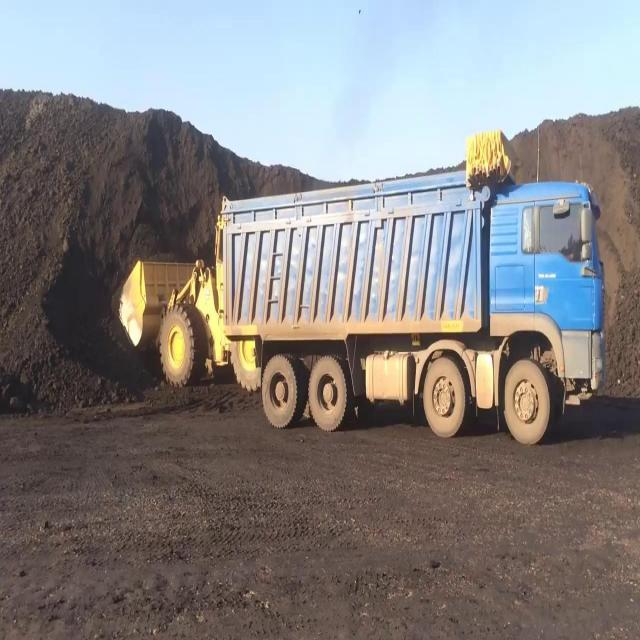Dump Truck: (222, 172, 606, 446)
Loader: (115, 206, 263, 390)
